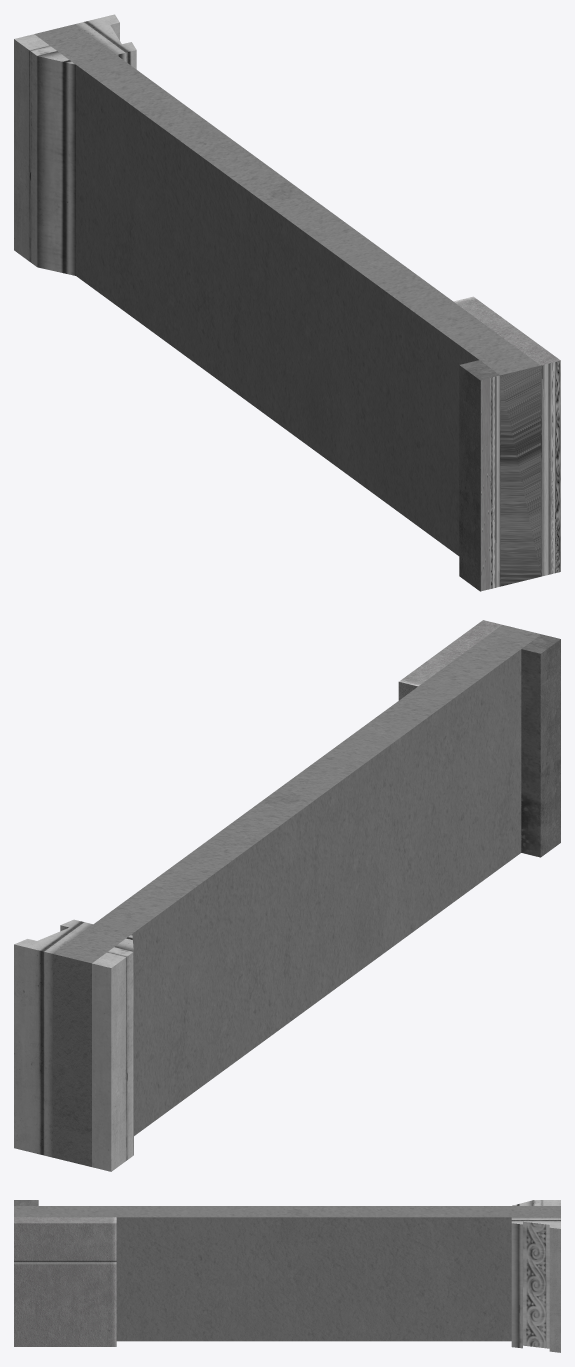
The model's file is A_wall_ 1m.fbx.
3 renders of one model, top to bottom at view 1: azimuth 30°, elevation 25°; view 2: azimuth 150°, elevation 25°; view 3: azimuth 270°, elevation 25°, orthographic. The views are drawn at different scales.
Parts seen in each view (by area): view 1: A_wall__1m; view 2: A_wall__1m; view 3: A_wall__1m.
Part boxes in pixels (x1=…): A_wall__1m: x1=14, y1=14, x2=560, y2=591; A_wall__1m: x1=14, y1=620, x2=560, y2=1171; A_wall__1m: x1=14, y1=1200, x2=560, y2=1352.
Bounding box in the file's own units: 0.5 × 1 × 4.
